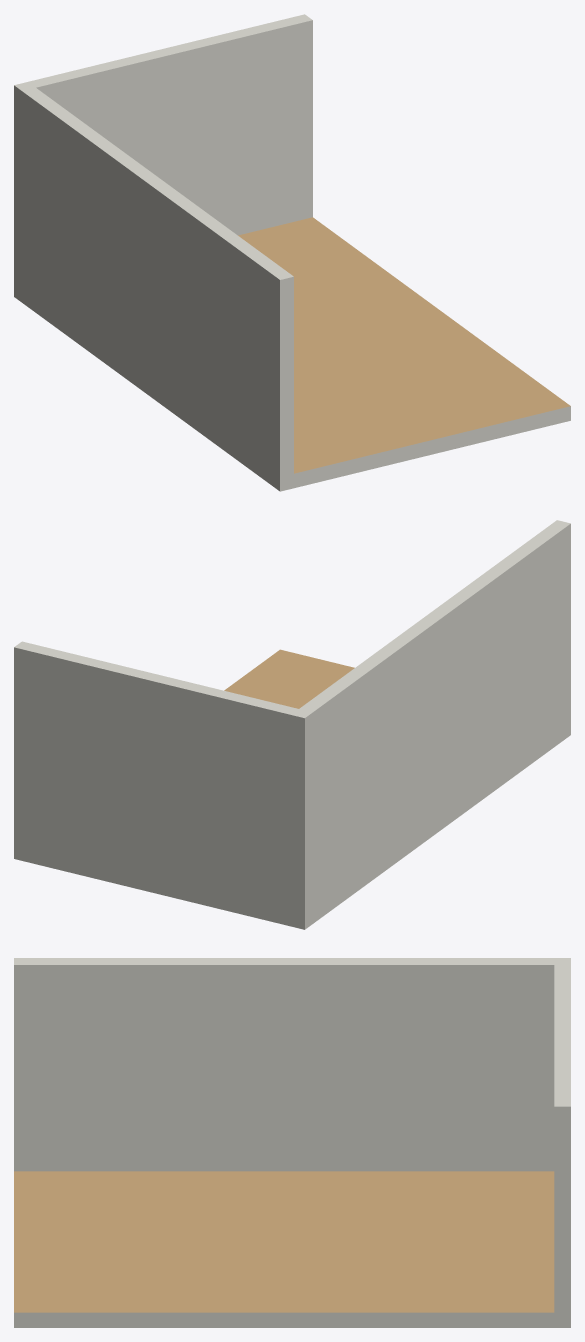
Rendered from Side_exp.glb.
3 renders of one model, top to bottom at view 1: azimuth 30°, elevation 25°; view 2: azimuth 150°, elevation 25°; view 3: azimuth 270°, elevation 25°, orthographic. The views are drawn at different scales.
Parts seen in each view (by area): view 1: 1_0; view 2: 1_0; view 3: 1_0.
Part boxes in pixels (bbox=[...]): 1_0: bbox=[14, 14, 570, 491]; 1_0: bbox=[14, 520, 570, 929]; 1_0: bbox=[14, 958, 570, 1327].
Size of the model in its own units: 2.63 by 1.83 by 4.16.
